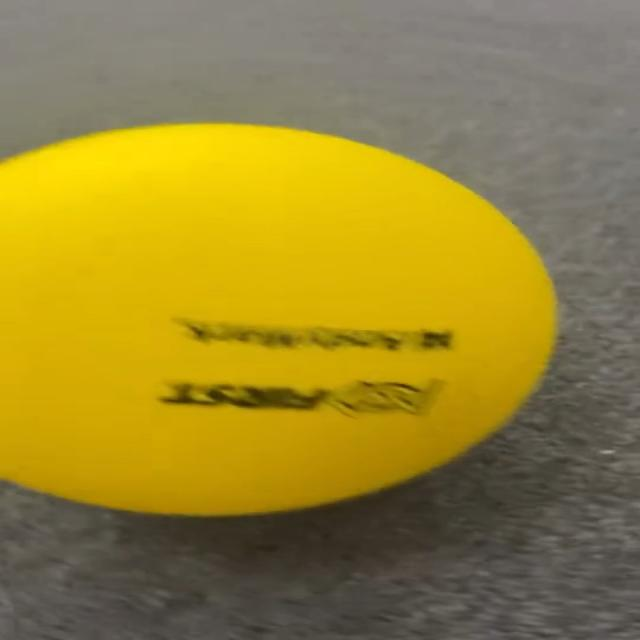Fuels: (6, 126, 555, 513)
